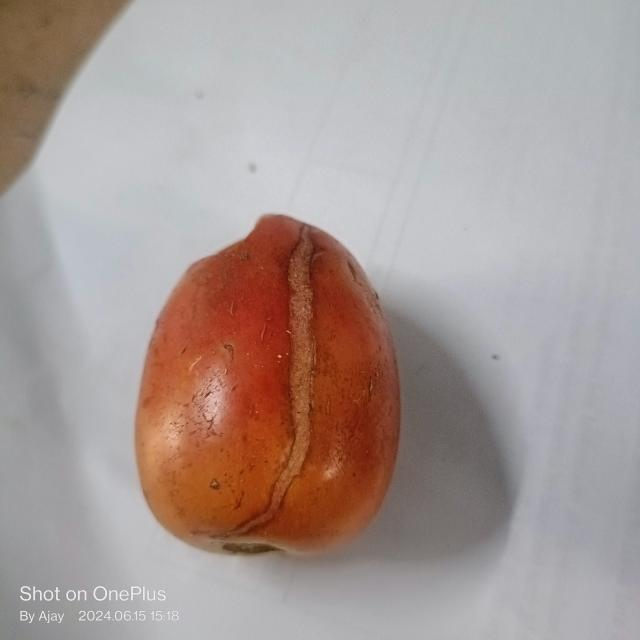tomato_cracking: (229, 227, 328, 534)
